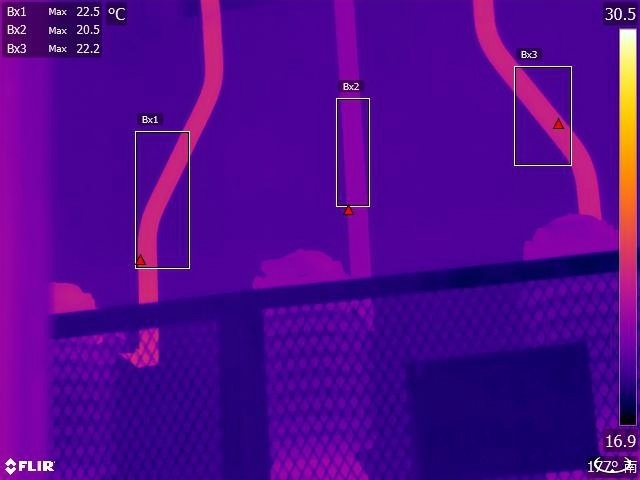tube: (245, 241, 370, 480), (514, 196, 618, 480), (36, 249, 135, 480)
